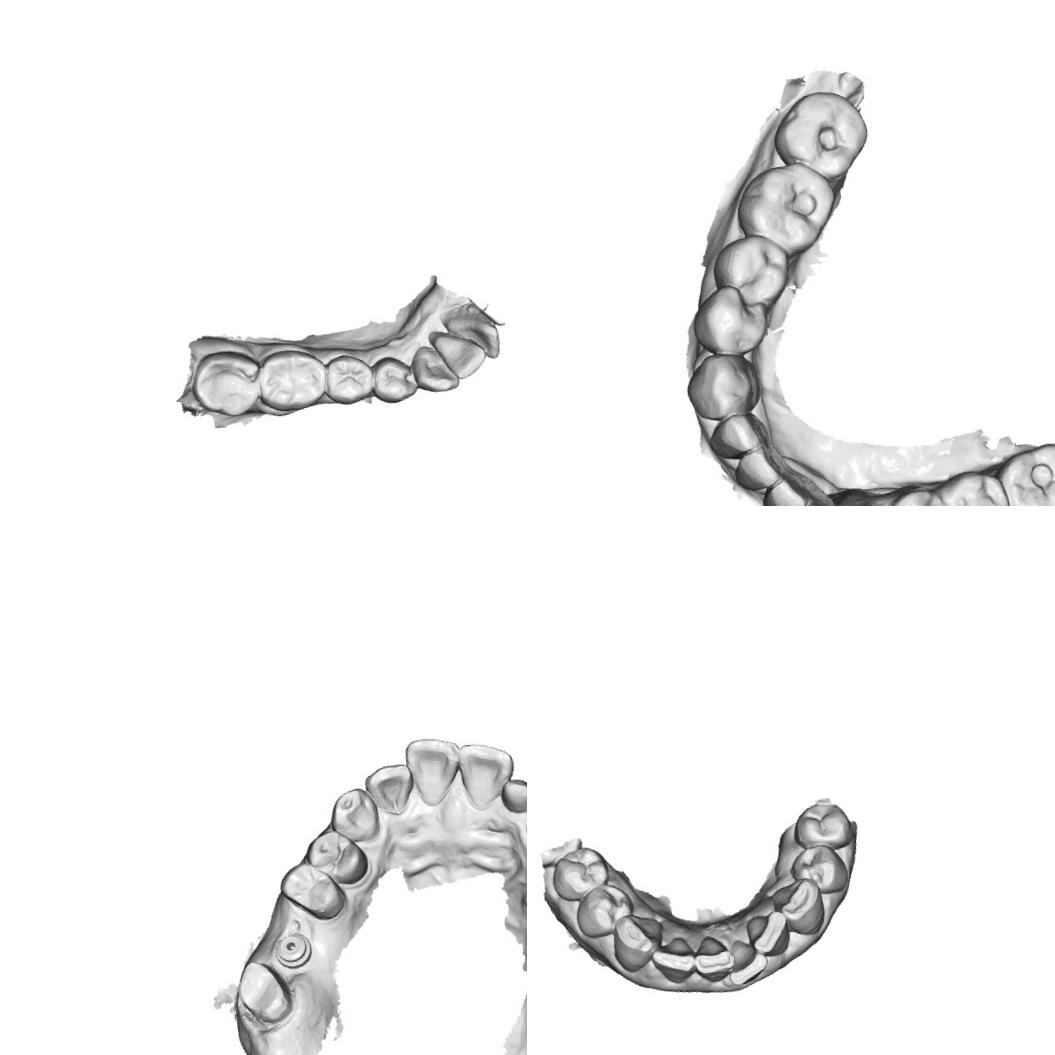canine: (680, 346, 767, 426), (608, 908, 670, 975), (768, 874, 828, 940), (325, 784, 384, 848), (408, 340, 464, 398), (817, 486, 897, 506)
crown: (233, 954, 301, 1034)
implant: (270, 928, 316, 972)
incisor: (454, 737, 521, 813), (402, 732, 466, 810), (440, 306, 504, 368), (430, 327, 492, 384), (728, 444, 792, 498), (706, 410, 768, 464), (362, 761, 418, 820), (647, 934, 698, 988), (743, 907, 794, 960), (722, 934, 771, 988), (690, 931, 739, 985), (758, 475, 814, 506), (498, 774, 527, 817)
molar: (728, 158, 844, 264), (766, 82, 876, 188), (184, 344, 266, 425), (253, 343, 332, 417), (996, 435, 1055, 506)
premolar: (708, 227, 796, 314), (688, 280, 774, 362), (273, 855, 351, 929), (300, 823, 373, 892), (570, 879, 638, 940), (548, 842, 613, 904), (788, 797, 856, 856), (785, 840, 851, 900), (320, 348, 378, 410), (934, 464, 1012, 506), (368, 350, 421, 408), (882, 483, 953, 506)
